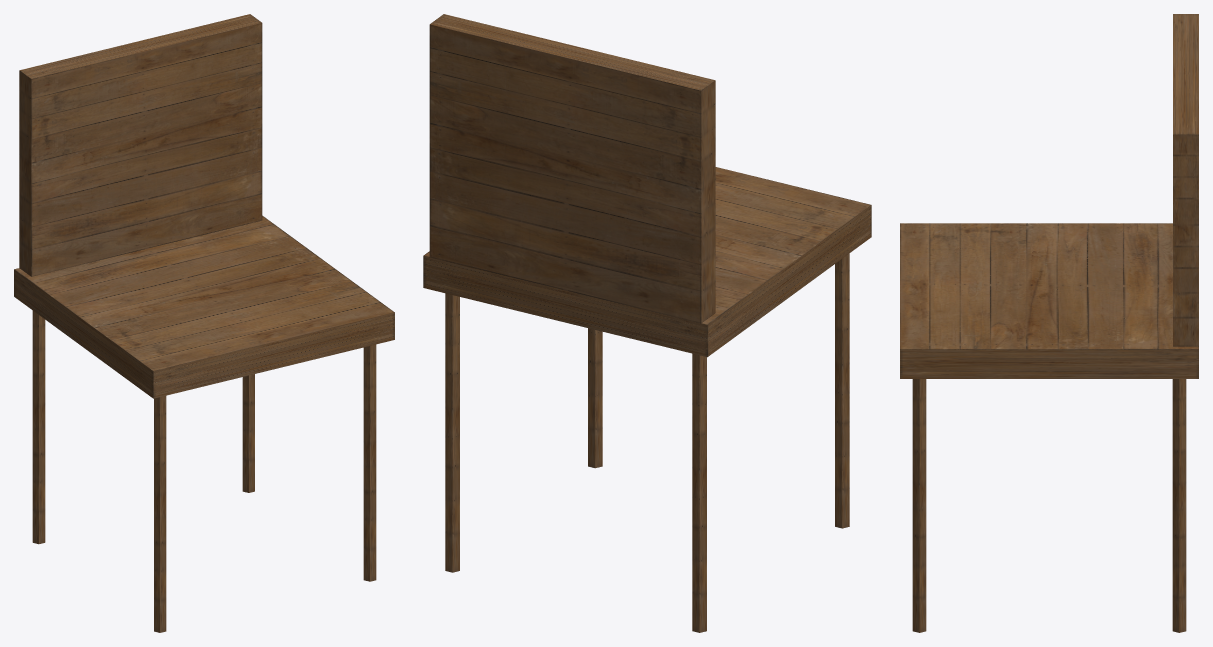
The model's file is cadeira_copa.glb.
3 renders of one model, left to right at view 1: azimuth 30°, elevation 25°; view 2: azimuth 150°, elevation 25°; view 3: azimuth 270°, elevation 25°, orthographic. The views are drawn at different scales.
Visible parts, largest first — view 1: cadeira_copa; view 2: cadeira_copa; view 3: cadeira_copa.
Boxes of the visible parts, x1,y1,x2,y2 form: cadeira_copa: [14, 14, 394, 632]; cadeira_copa: [423, 14, 871, 632]; cadeira_copa: [900, 14, 1198, 632].
Bounding box in the file's own units: 0.46 × 0.85 × 0.46.
Materials: 2 (2 with a texture image).
